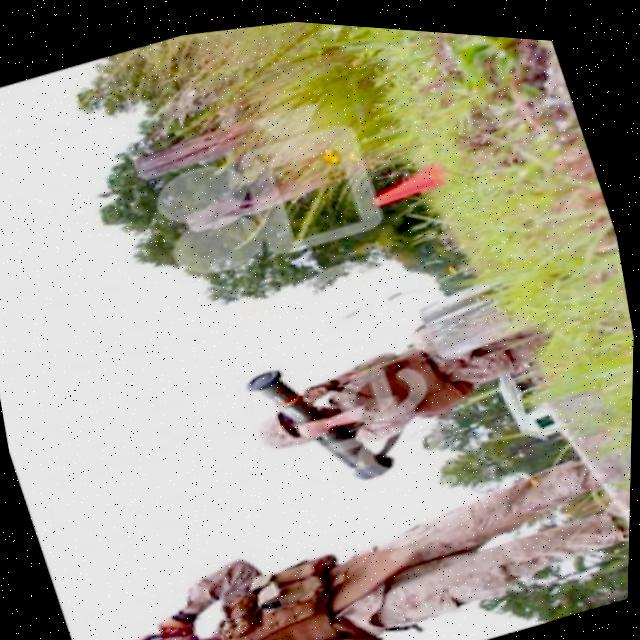rocket: (238, 327, 411, 517)
